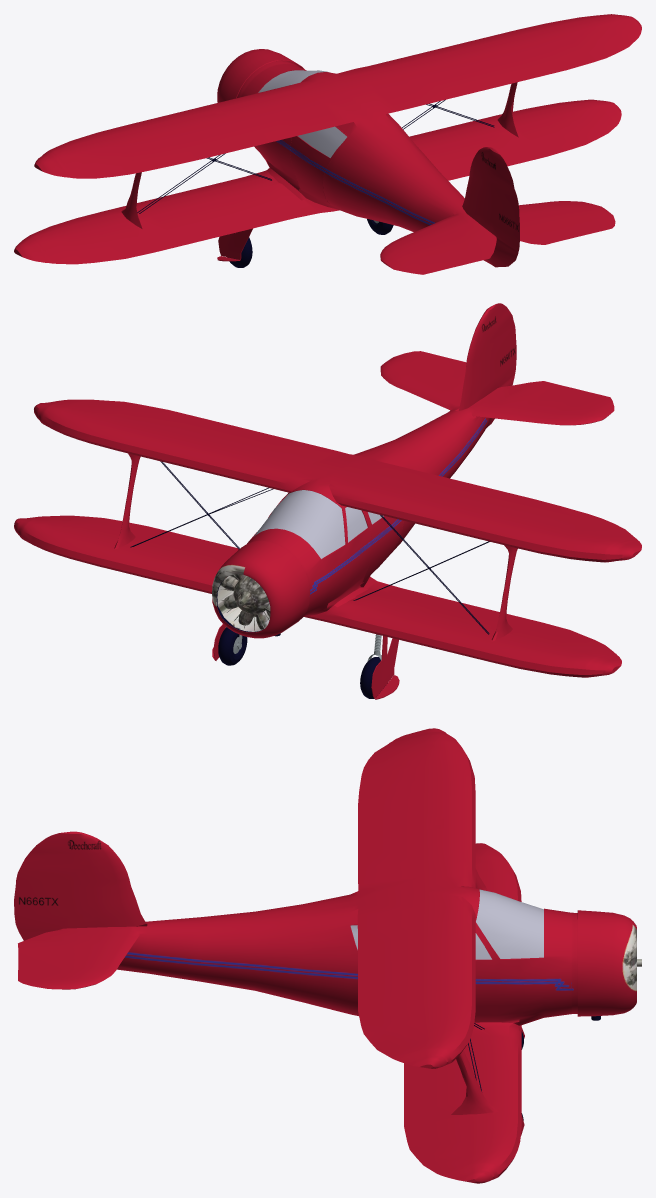
File: Beech_Model-17_aircraft_unrigged_3.2.fbx
The picture shows the model from 3 angles, top to bottom: view 1: azimuth 30°, elevation 25°; view 2: azimuth 150°, elevation 25°; view 3: azimuth 270°, elevation 25°; orthographic projection. The views are drawn at different scales.
Parts seen in each view (by area): view 1: Beech17aircraft; view 2: Beech17aircraft; view 3: Beech17aircraft.
Boxes of the visible parts, left/top/right/bottom form: Beech17aircraft: left=14, top=14, right=641, bottom=274; Beech17aircraft: left=14, top=303, right=641, bottom=699; Beech17aircraft: left=14, top=728, right=641, bottom=1183.
Bounding box in the file's own units: 980 × 371 × 777.
1 material, 1 textured.
